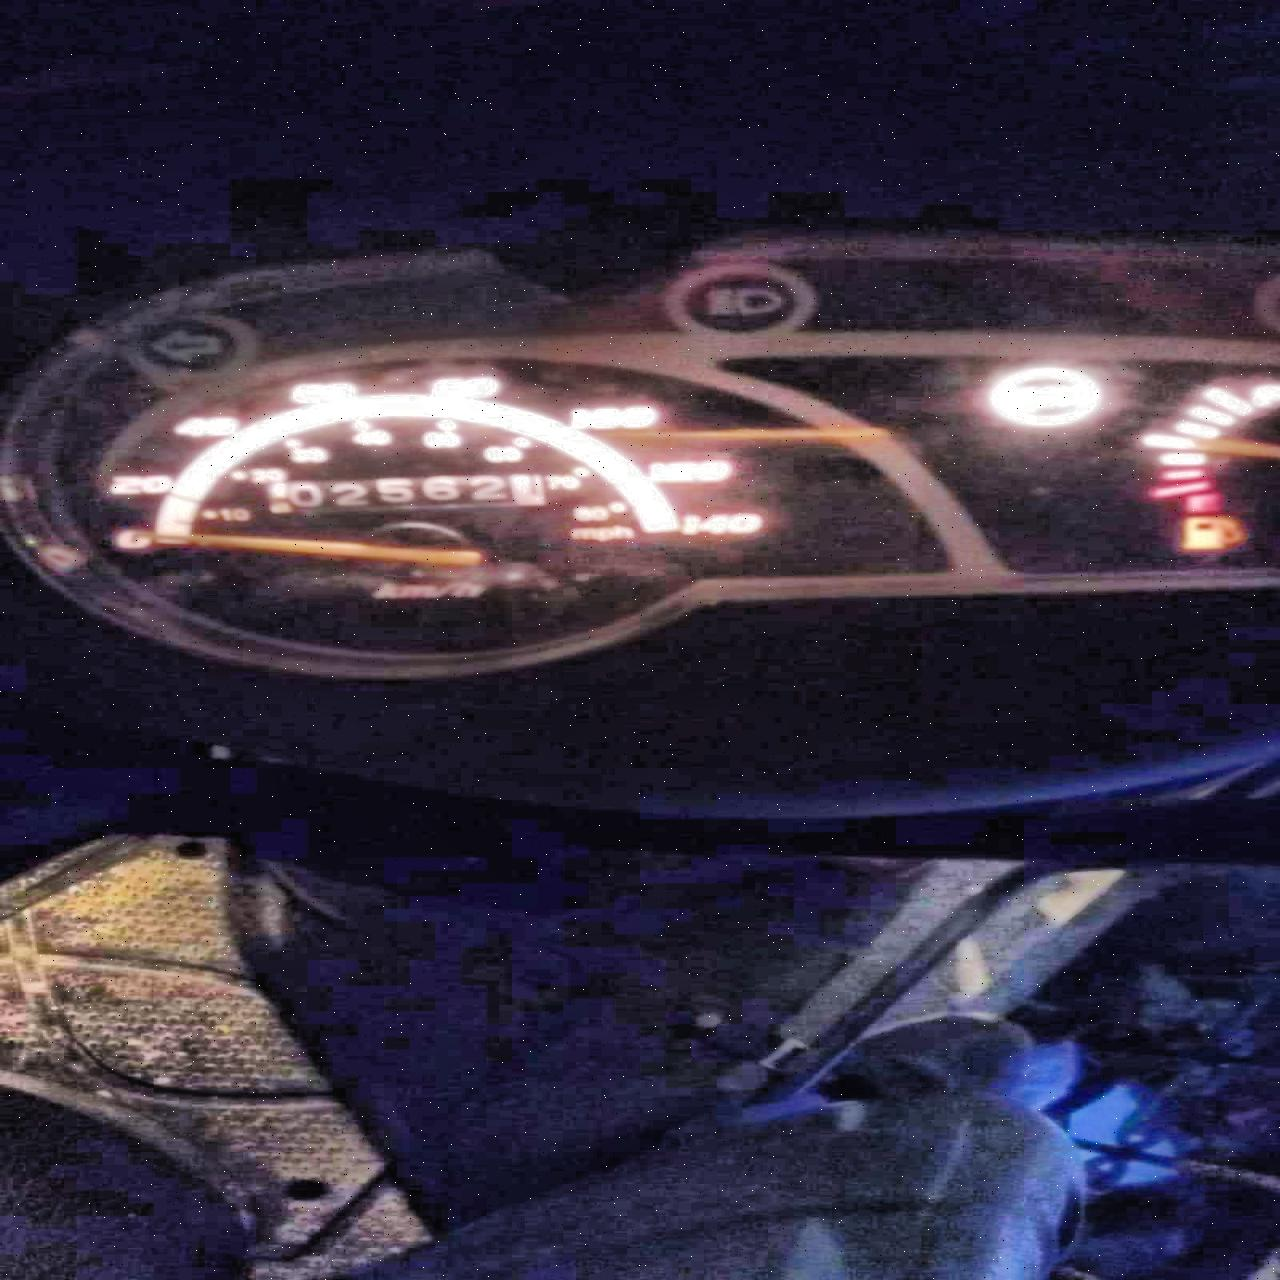0: (285, 482, 324, 508)
1: (519, 472, 543, 496)
2: (464, 474, 509, 499), (328, 482, 369, 505)
5: (373, 477, 414, 502)
6: (418, 475, 459, 501)
odometer: (258, 471, 547, 516)
